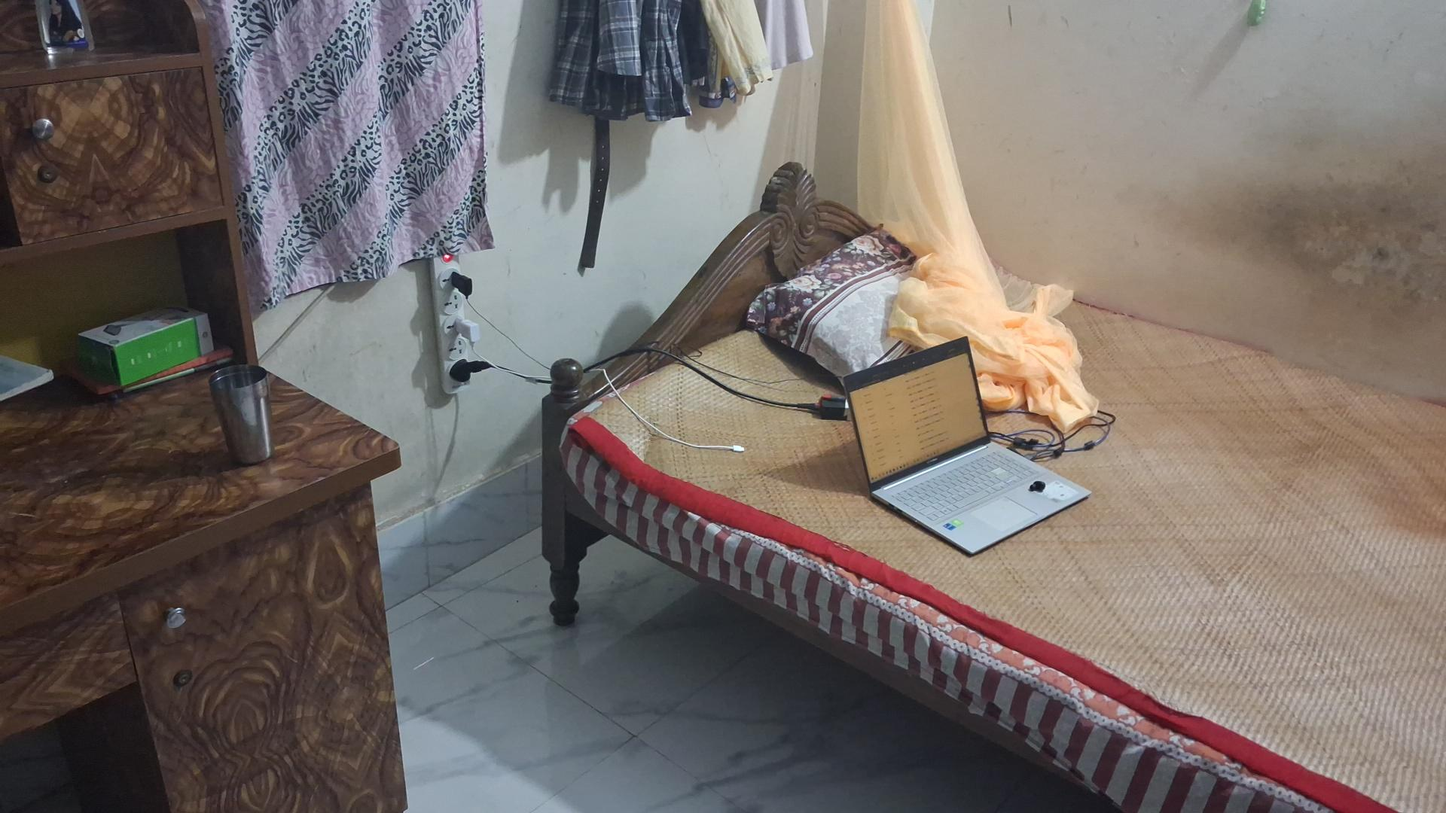Box: (75, 308, 220, 392)
Glass: (209, 363, 272, 466)
Laptop: (841, 336, 1093, 557)
